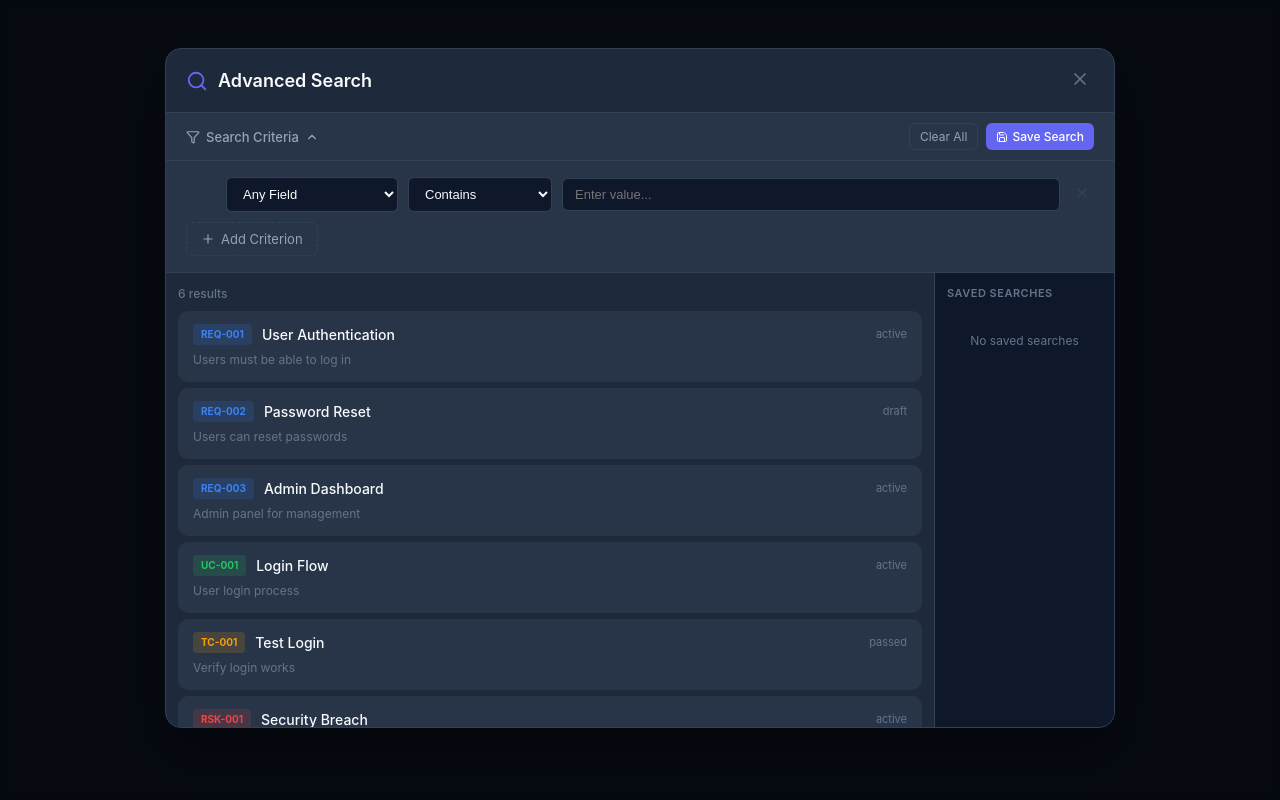
AdvancedSearchModal › combines type filter with text search
This screenshot has width=1280, height=800.
Select "Artifact Type" in the 1st dropdown at (312, 194), box [226,177,398,212]
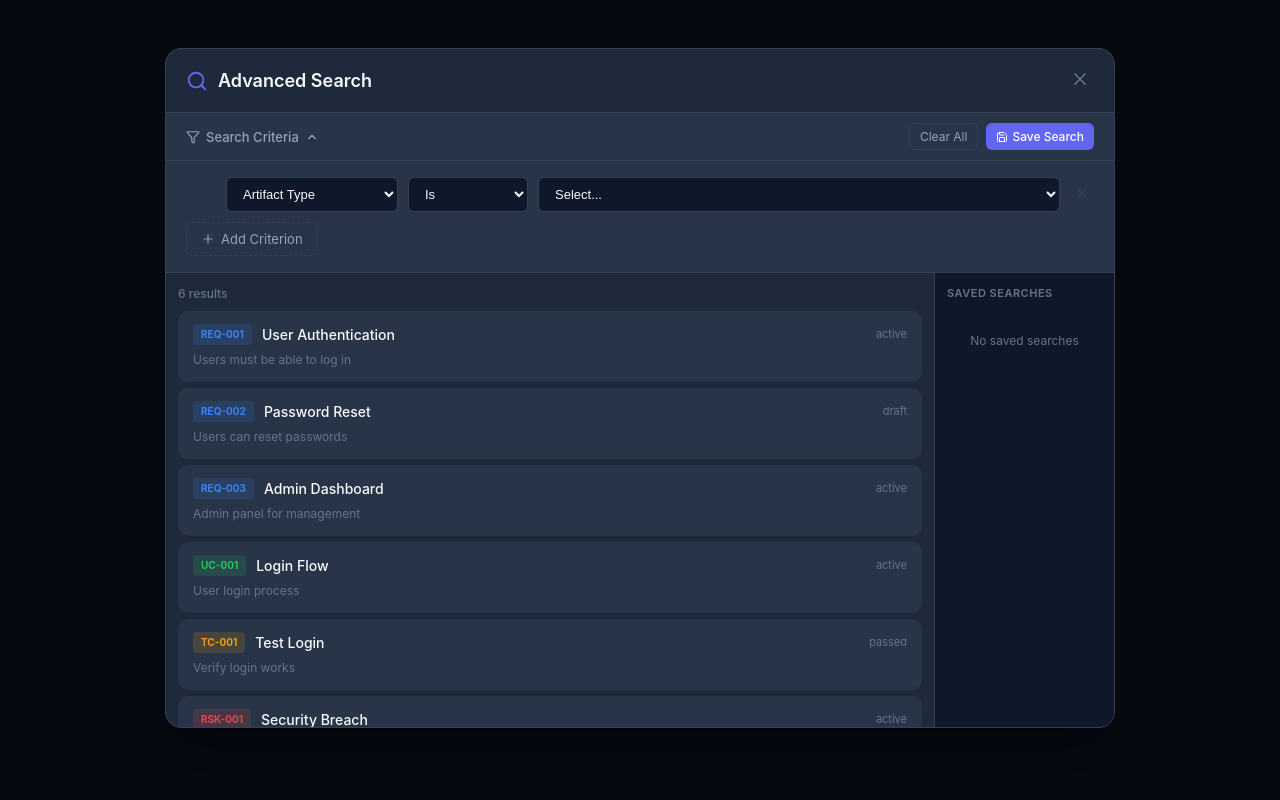
Select "requirement" in the 3rd dropdown at (799, 194), box [538,177,1060,212]
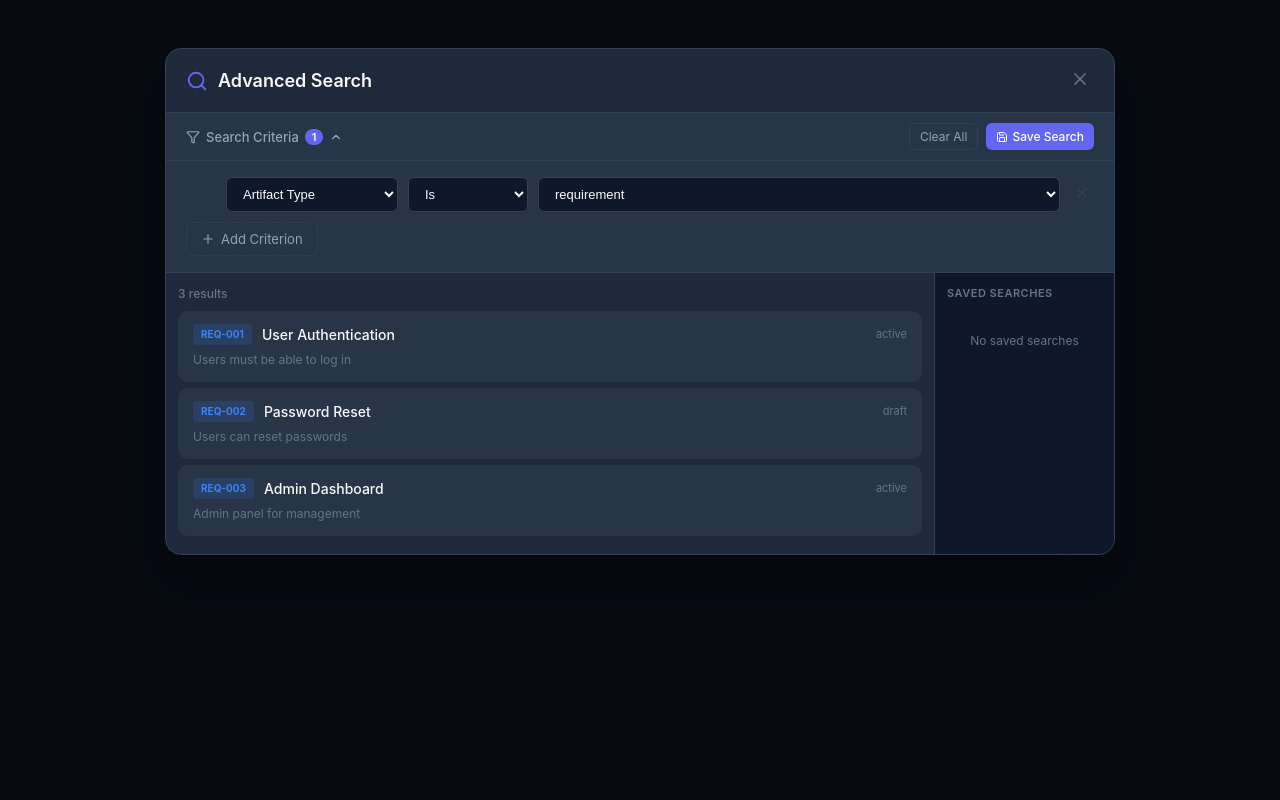
Add second criterion: title contains "Admin"
Click the button "Add Criterion".
click(252, 239)  # box [186,222,318,256]
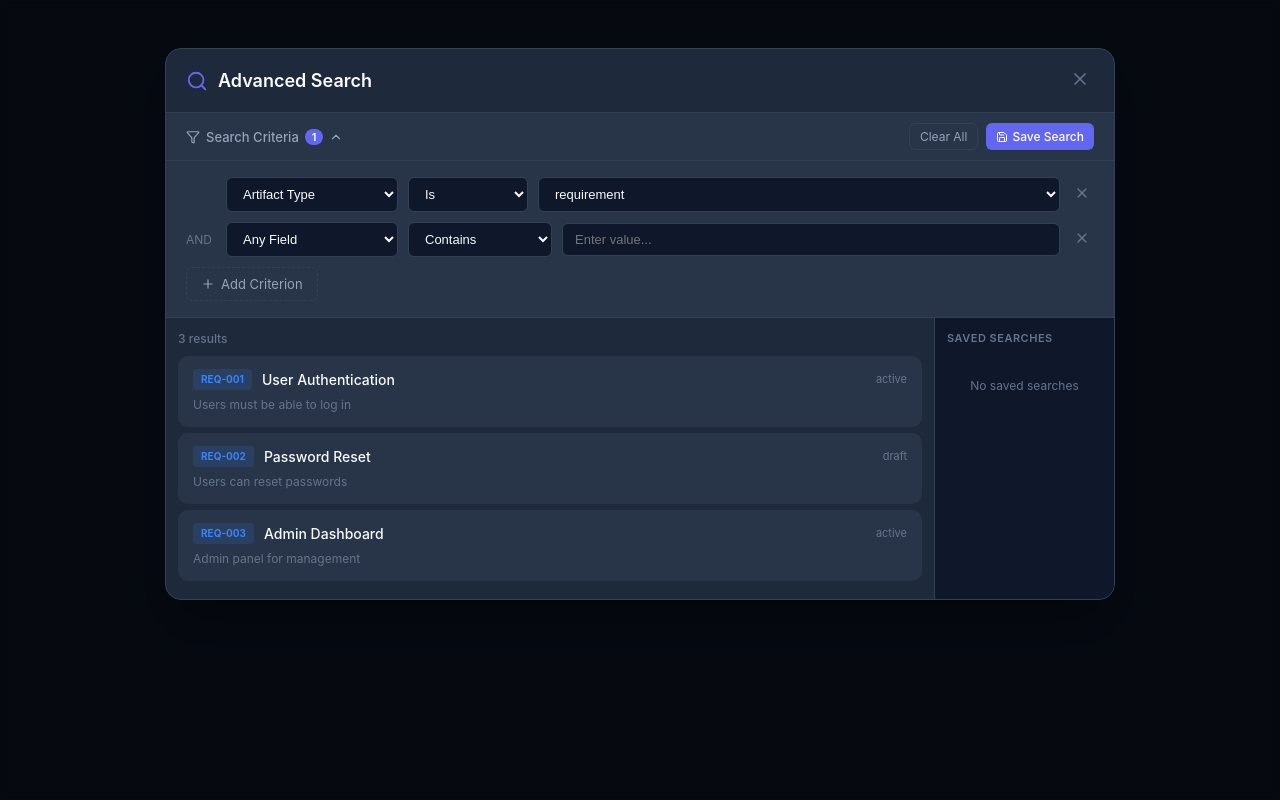
Select "Title" in the 4th dropdown at (312, 240), box [226,222,398,257]
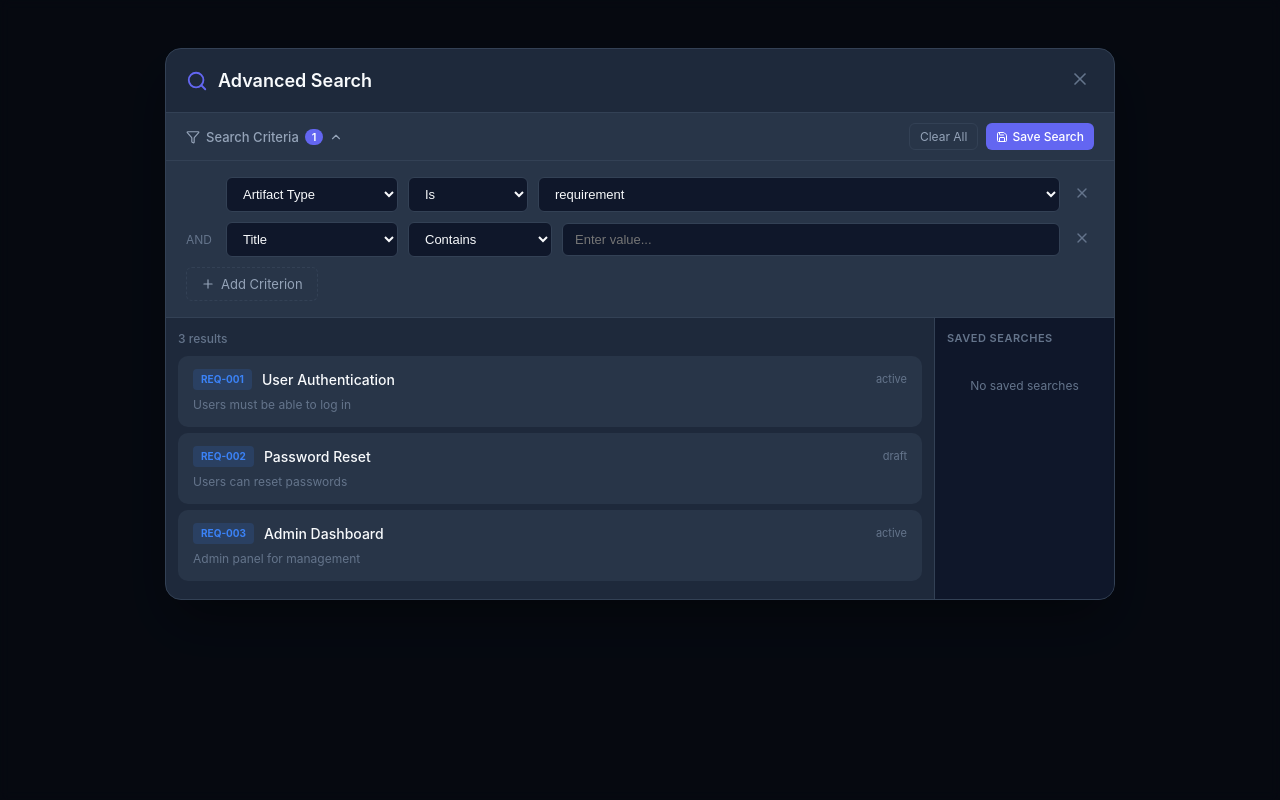
Type "Admin" into the field with placeholder "Enter value...".
click(811, 240); type("Admin")  # box [562,223,1060,256]
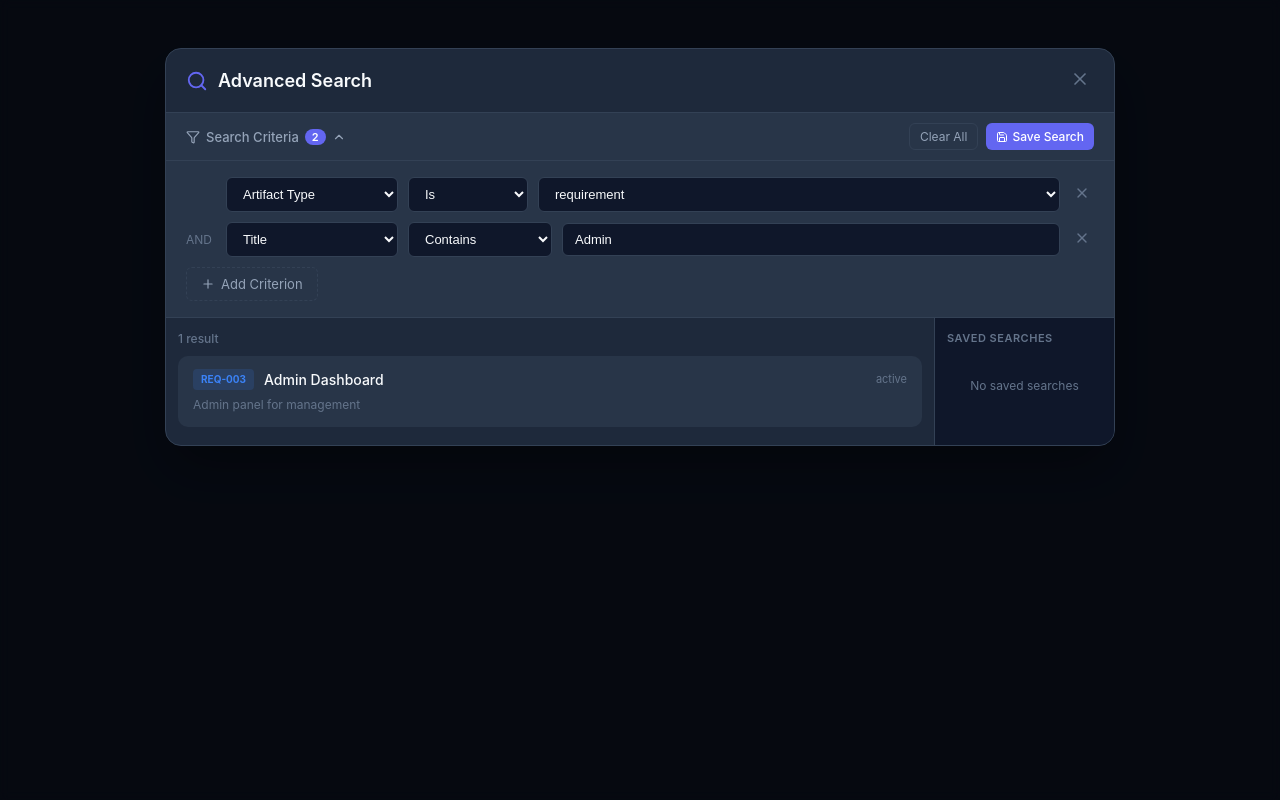
Expected: the text "REQ-003" is shown, [193,369,254,390]
Result: the text "REQ-001" is gone
Result: the text "REQ-002" is gone
